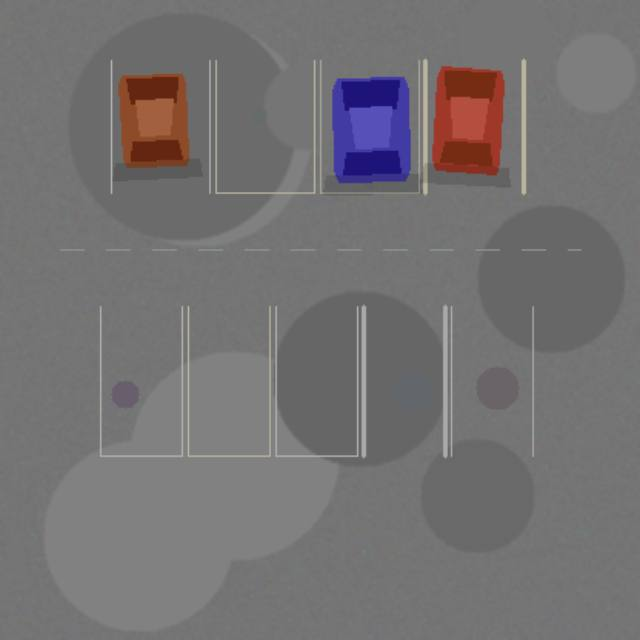space-empty: (215, 60, 314, 192), (100, 306, 182, 455), (275, 306, 357, 455), (363, 306, 445, 455), (188, 306, 269, 455), (451, 306, 532, 455)
space-occupied: (111, 60, 209, 192), (320, 60, 418, 192), (425, 60, 523, 192)
